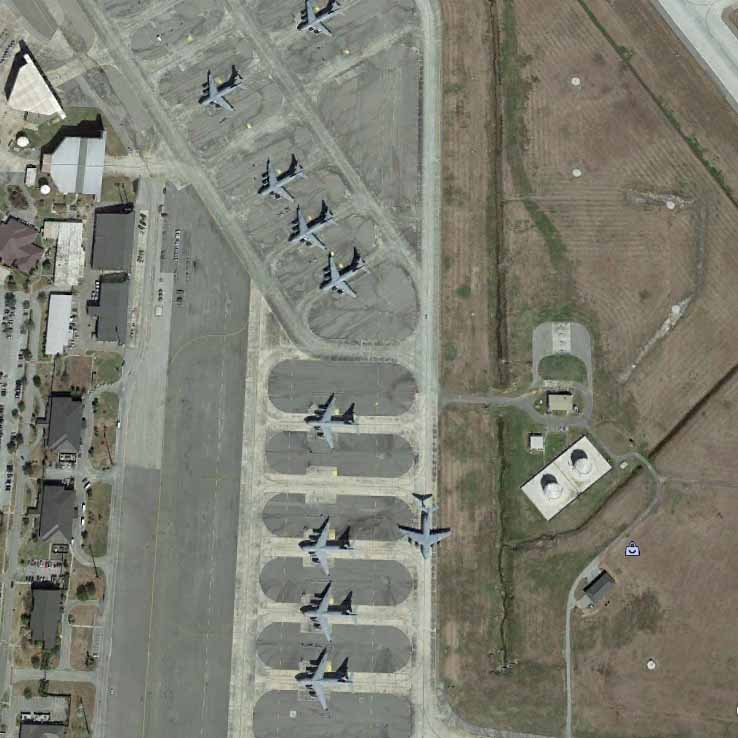A3: (295, 650, 354, 711), (300, 582, 357, 644), (398, 501, 450, 561), (299, 520, 353, 576), (304, 394, 357, 448), (318, 254, 370, 300), (288, 205, 336, 252), (258, 158, 307, 203), (198, 67, 244, 112), (297, 1, 346, 39)
